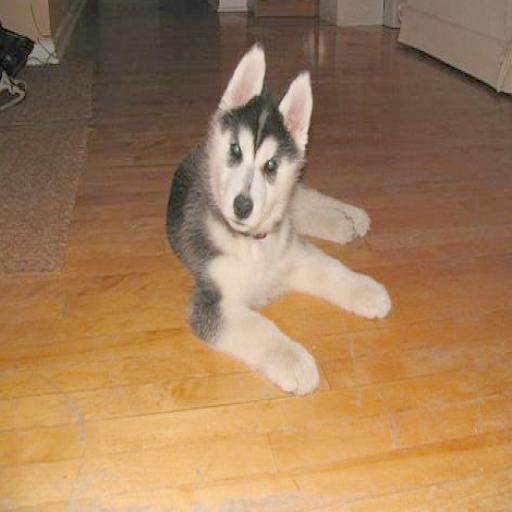dog_face: (220, 55, 313, 227)
